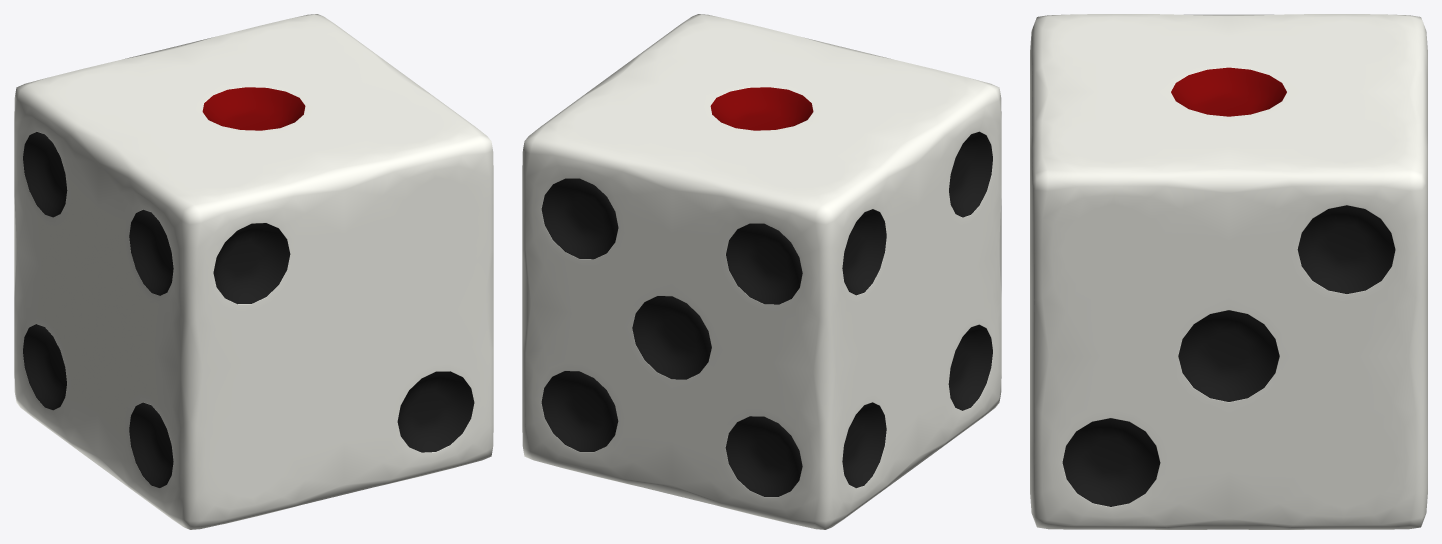
The model's file is dice.glb.
3 views of the same model, side by side, from view 1: azimuth 30°, elevation 25°; view 2: azimuth 150°, elevation 25°; view 3: azimuth 270°, elevation 25° (orthographic). The views are drawn at different scales.
Visible parts, largest first — view 1: 0_Dice_mesh_; view 2: 0_Dice_mesh_; view 3: 0_Dice_mesh_.
Part boxes in pixels (x1=…): 0_Dice_mesh_: x1=14, y1=14, x2=493, y2=529; 0_Dice_mesh_: x1=522, y1=14, x2=1001, y2=529; 0_Dice_mesh_: x1=1030, y1=14, x2=1427, y2=529.
Size of the model in its own units: 4 by 4 by 4.
Materials: 1 (1 with a texture image).
